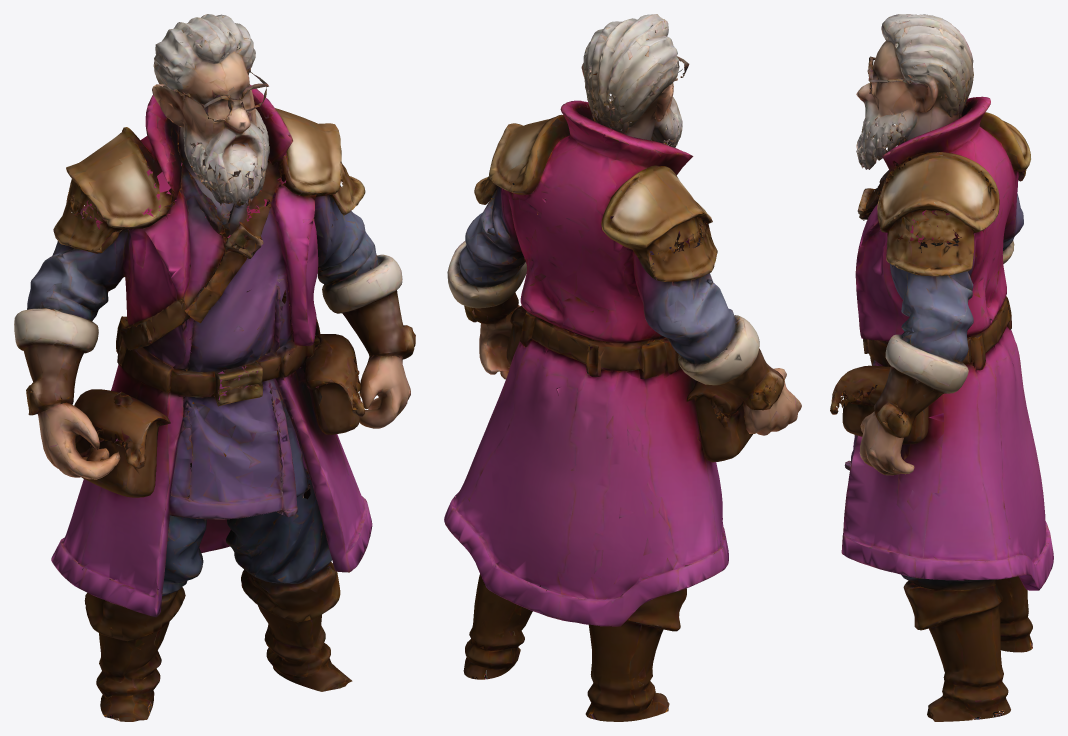
Rendered from fig_npc_orin.glb.
3 renders of one model, left to right at view 1: azimuth 30°, elevation 25°; view 2: azimuth 150°, elevation 25°; view 3: azimuth 270°, elevation 25°, orthographic. The views are drawn at different scales.
Visible parts, largest first — view 1: geometry_0; view 2: geometry_0; view 3: geometry_0.
Part boxes in pixels (x1,y1,x2,y2): geometry_0: (14,14,415,721); geometry_0: (444,14,801,721); geometry_0: (830,14,1053,721).
Size of the model in its own units: 0.4746 by 0.8892 by 0.2836.
1 material, 1 textured.
